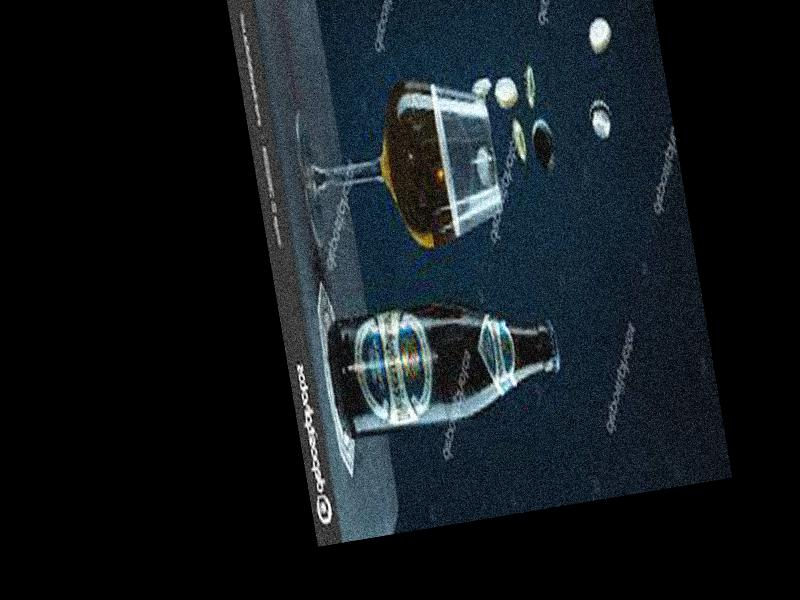Beer: (325, 288, 564, 436)
